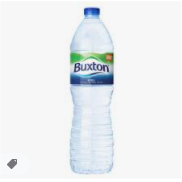Bottle: (70, 8, 115, 173)
